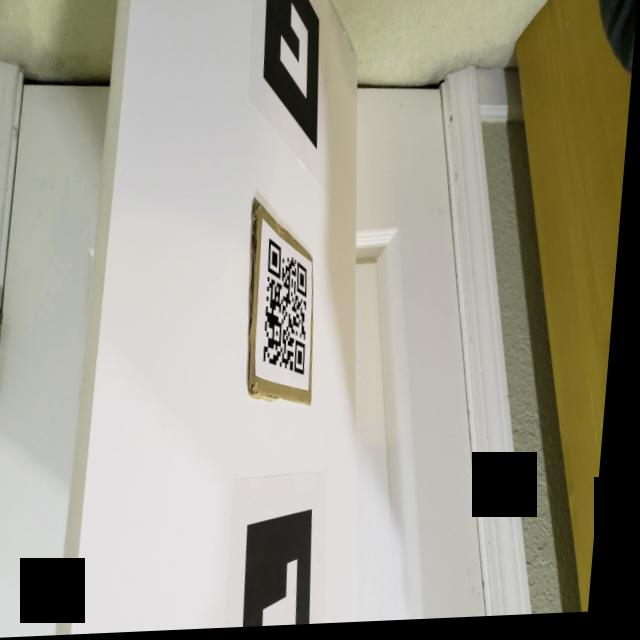QR_CODE: (252, 228, 326, 389)
